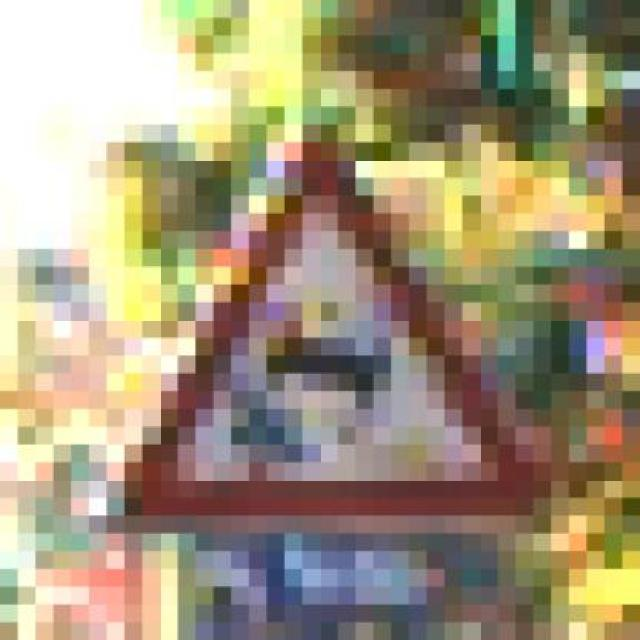Slippery Road Ahead: (89, 142, 569, 533)
